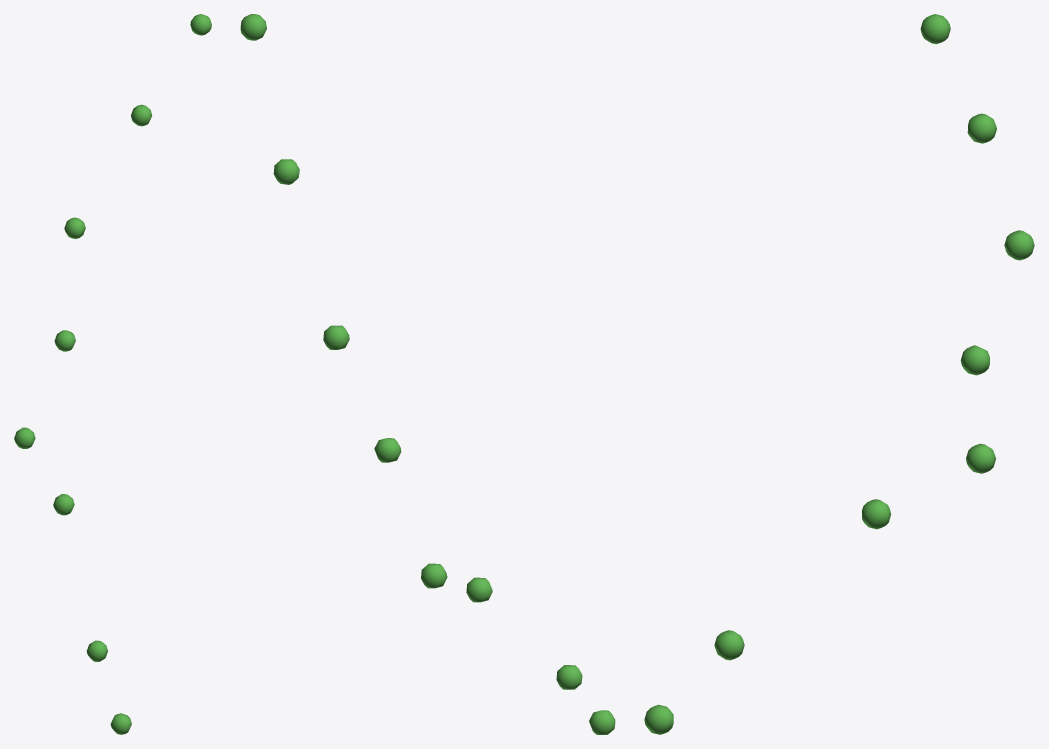
The model's file is linfatico-medial-external-iliac-nodes-r.glb.
The picture shows the model from 3 angles, left to right: view 1: azimuth 30°, elevation 25°; view 2: azimuth 150°, elevation 25°; view 3: azimuth 270°, elevation 25°; orthographic projection. The views are drawn at different scales.
Visible parts, largest first — view 1: Medial external iliac nodes.r; view 2: Medial external iliac nodes.r; view 3: Medial external iliac nodes.r.
Boxes of the visible parts, x1=… form: Medial external iliac nodes.r: x1=14, y1=14, x2=211, y2=734; Medial external iliac nodes.r: x1=240, y1=14, x2=615, y2=734; Medial external iliac nodes.r: x1=644, y1=14, x2=1034, y2=734.
Size of the model in its own units: 0.0272 by 0.0794 by 0.0335.
